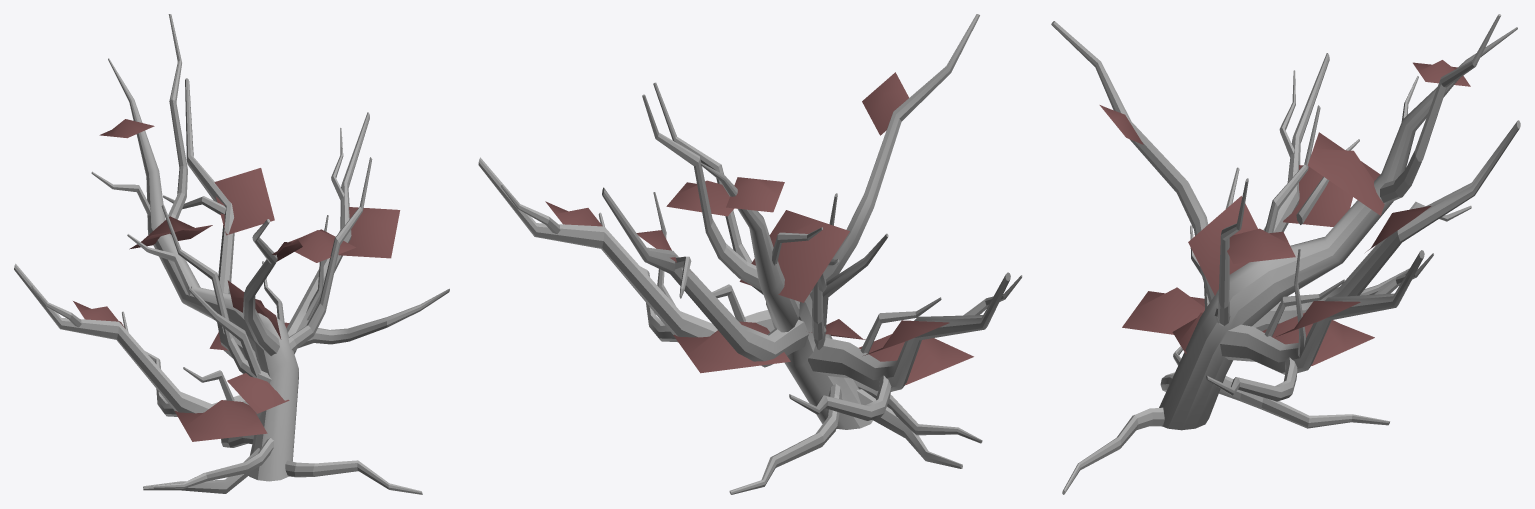
File: SetDressing_Tree_Mesh.fbx
3 views of the same model, side by side, from view 1: azimuth 30°, elevation 25°; view 2: azimuth 150°, elevation 25°; view 3: azimuth 270°, elevation 25° (orthographic). The views are drawn at different scales.
Parts seen in each view (by area): view 1: pPlane11; view 2: pPlane11; view 3: pPlane11.
Part boxes in pixels (box(x1,y1,x2,y2)): pPlane11: box(14, 14, 449, 494); pPlane11: box(478, 14, 1022, 494); pPlane11: box(1051, 14, 1520, 494).
Size of the model in its own units: 494 by 437 by 424.
